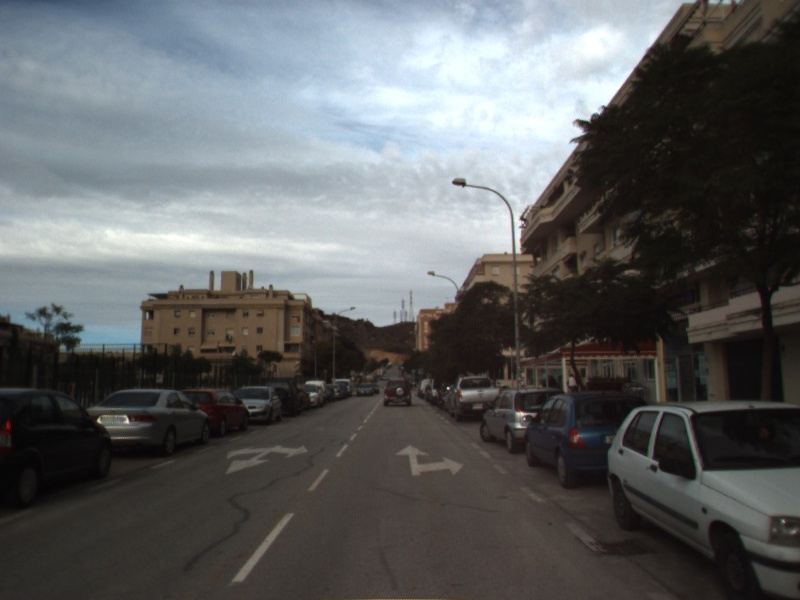STRAIGHT_RIGHT: (393, 442, 466, 477)
